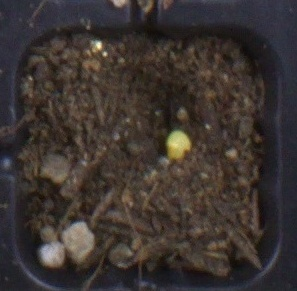chilli seed: (165, 129, 192, 160)
